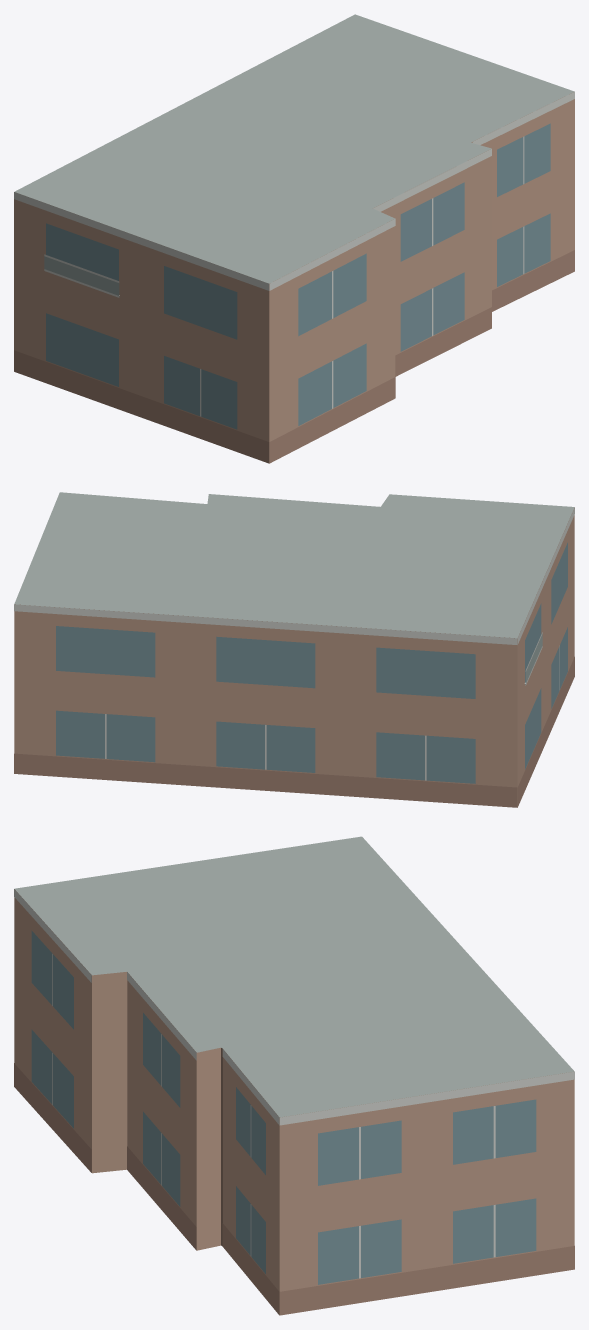
The model's file is survey-upis-32842308.glb.
3 views of the same model, one above another, from view 1: azimuth 30°, elevation 25°; view 2: azimuth 150°, elevation 25°; view 3: azimuth 270°, elevation 25° (orthographic). The views are drawn at different scales.
Parts seen in each view (by area): view 1: survey-upis-32842308.tmp; view 2: survey-upis-32842308.tmp; view 3: survey-upis-32842308.tmp.
Part boxes in pixels (<box>): survey-upis-32842308.tmp: <box>14,14,574,463</box>; survey-upis-32842308.tmp: <box>14,492,574,807</box>; survey-upis-32842308.tmp: <box>14,836,574,1315</box>.
Bounding box in the file's own units: 17.06 × 5.6 × 14.38.
